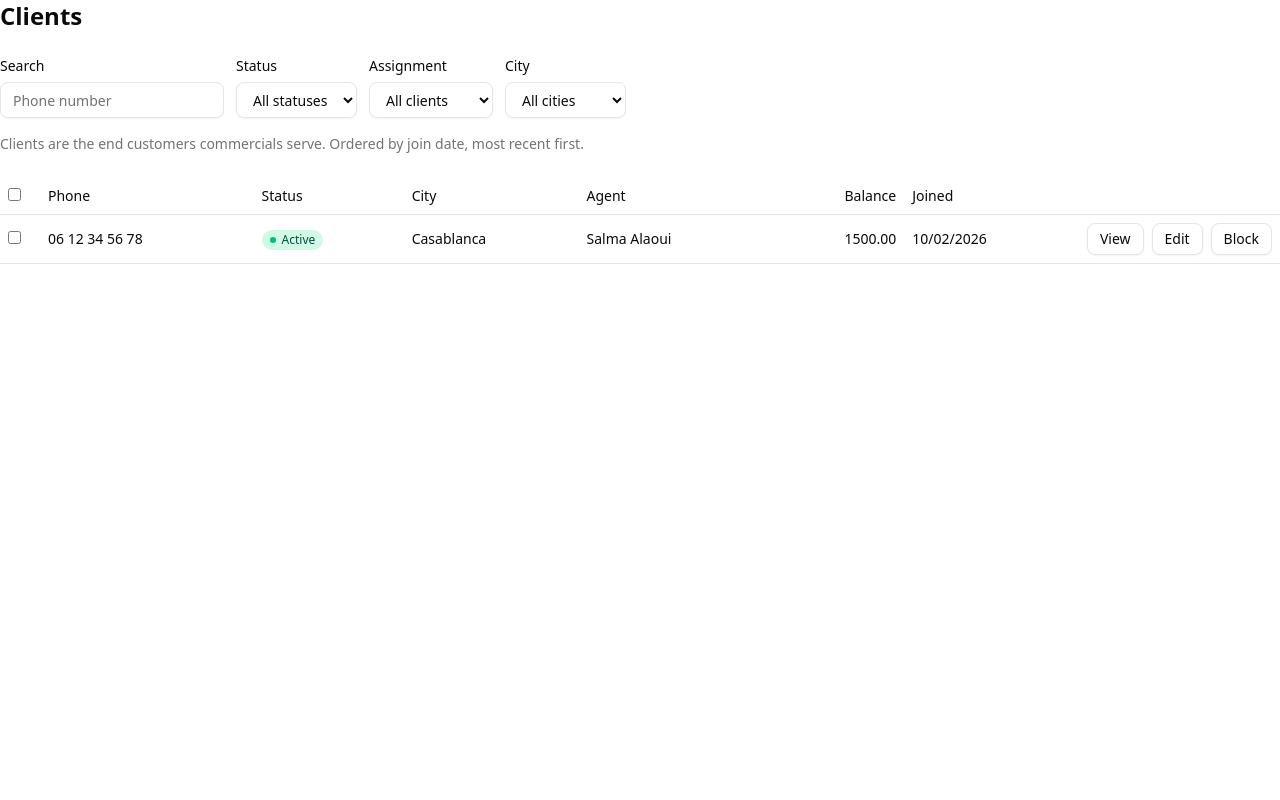
Test: edit › seeds the drawer from the row, including secteur
What coordinates should you click on to do the following:
click the button with aria-label "edit 0612345678"
I would click on:
 (1177, 239)
Its box is [1152,223,1203,255].
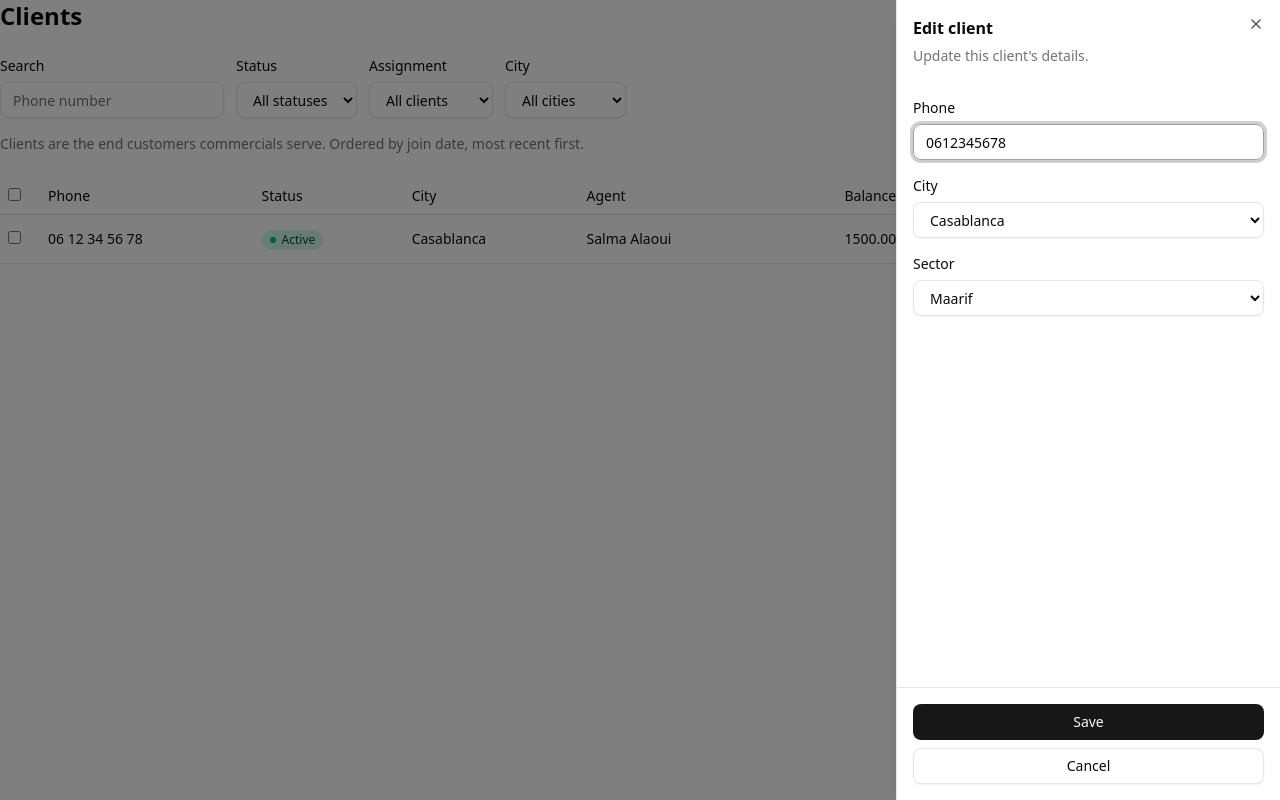
expect the field labelled "Phone" holds "0612345678": met, box [913,124,1264,160]
expect the dropdown labelled "City" shows "Casablanca": met, box [913,202,1264,238]
expect the dropdown labelled "Sector" shows "Maarif": met, box [913,280,1264,316]
